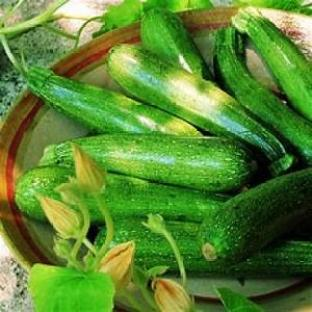Zucchini: (109, 45, 293, 173), (215, 28, 311, 164), (41, 135, 256, 192), (27, 67, 200, 136), (200, 169, 311, 263), (232, 9, 311, 120), (167, 221, 311, 276), (102, 174, 228, 222), (141, 8, 212, 79)
